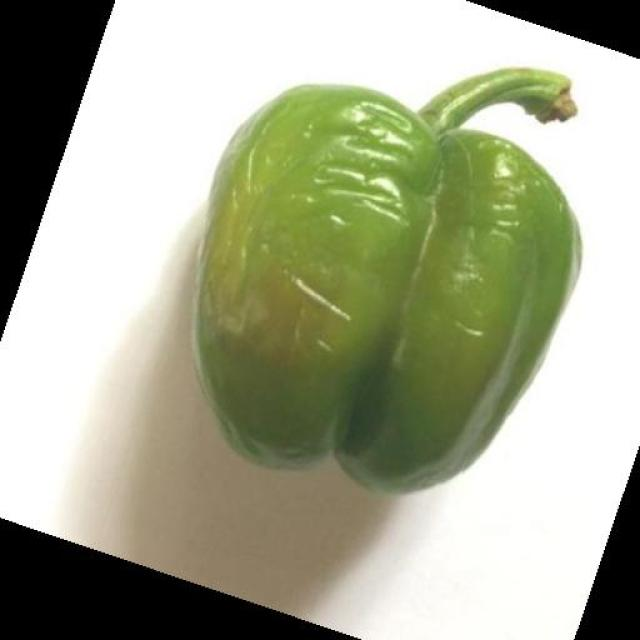Stale_Capsicum: (202, 43, 512, 477)
